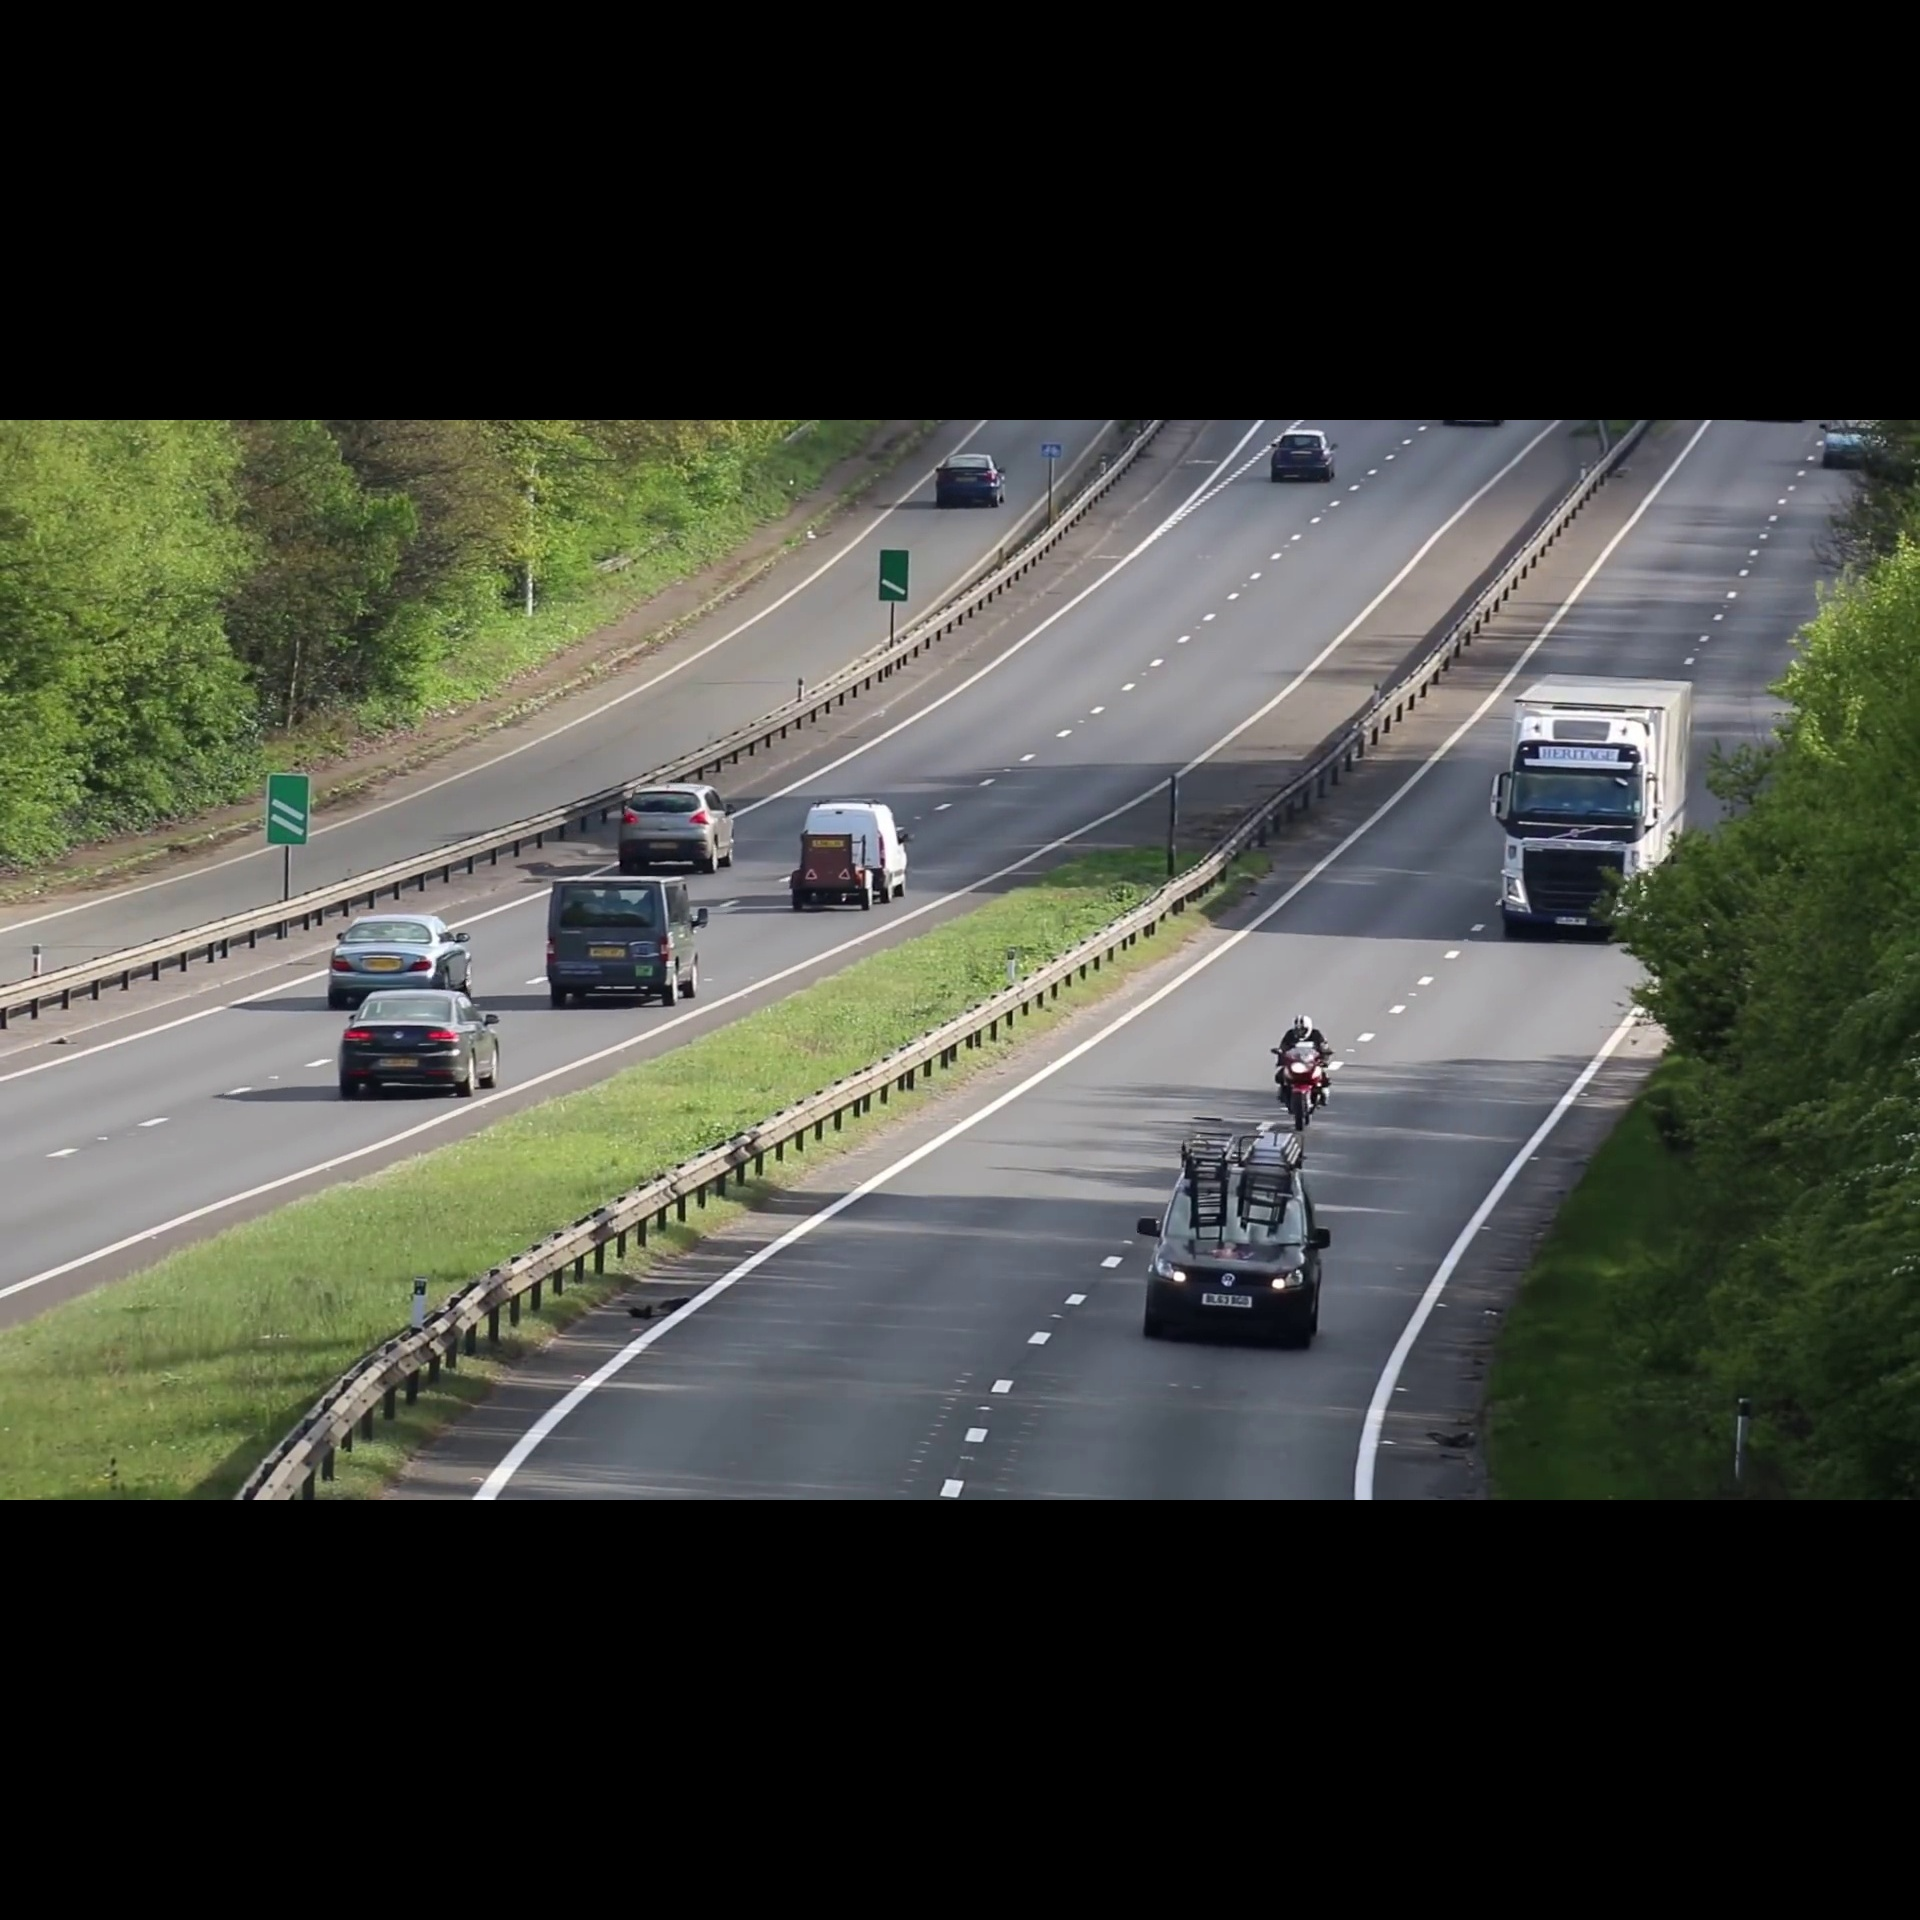vehicle: (1487, 666, 1705, 946), (1138, 1122, 1327, 1359), (536, 876, 703, 1015), (325, 988, 503, 1109), (784, 795, 914, 920), (324, 907, 478, 997), (612, 775, 745, 874), (934, 452, 1011, 515), (1268, 427, 1342, 487)
